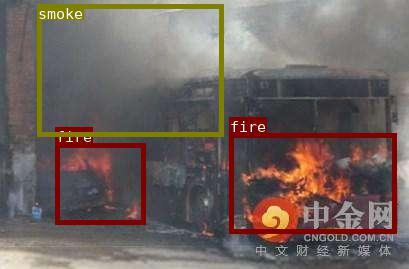fire: (229, 133, 396, 233), (55, 143, 144, 224)
smoke: (37, 4, 222, 135)
